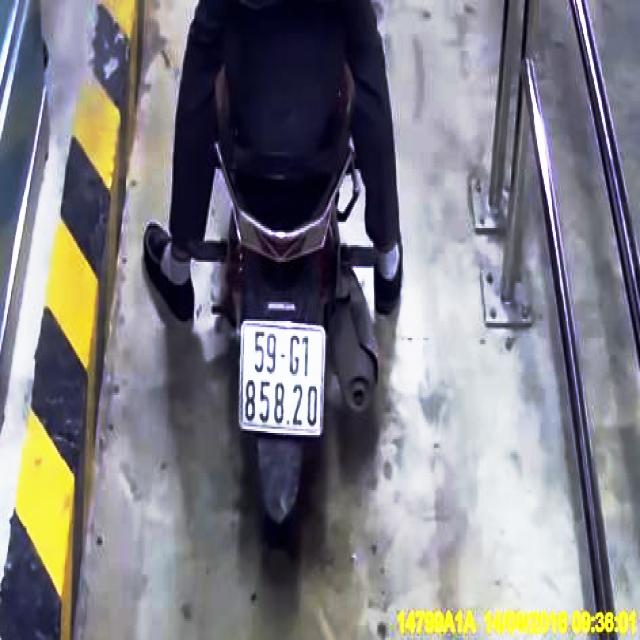license_plate: (240, 321, 326, 439)
